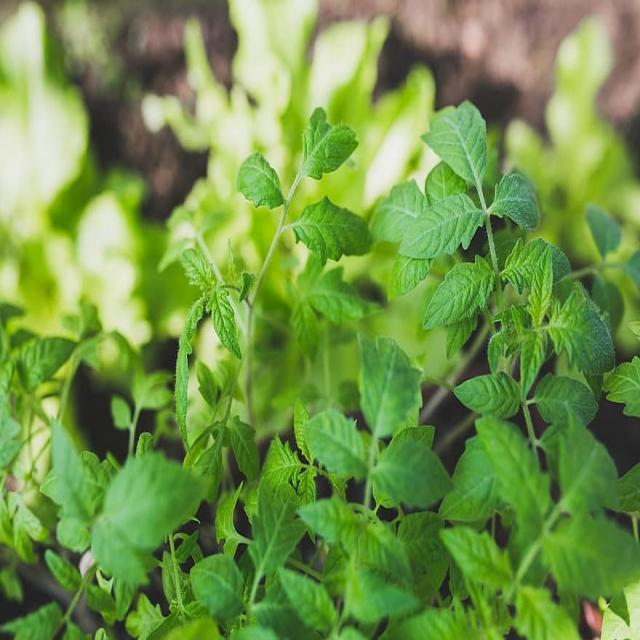Healthy Leaf: (415, 258, 500, 335), (292, 200, 381, 268), (420, 92, 488, 174), (402, 189, 484, 253), (301, 112, 364, 187), (449, 366, 525, 416), (232, 146, 289, 208), (210, 286, 253, 368), (493, 174, 550, 229), (526, 230, 554, 330), (180, 233, 217, 288)
